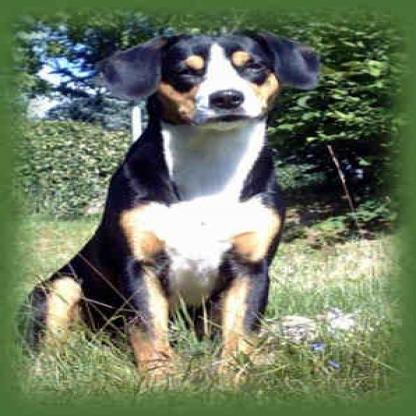EntleBucher: (11, 29, 313, 394)
